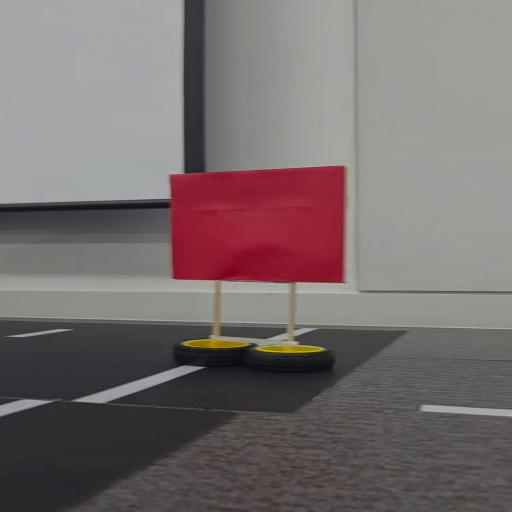Sign_A: (155, 166, 358, 377)
